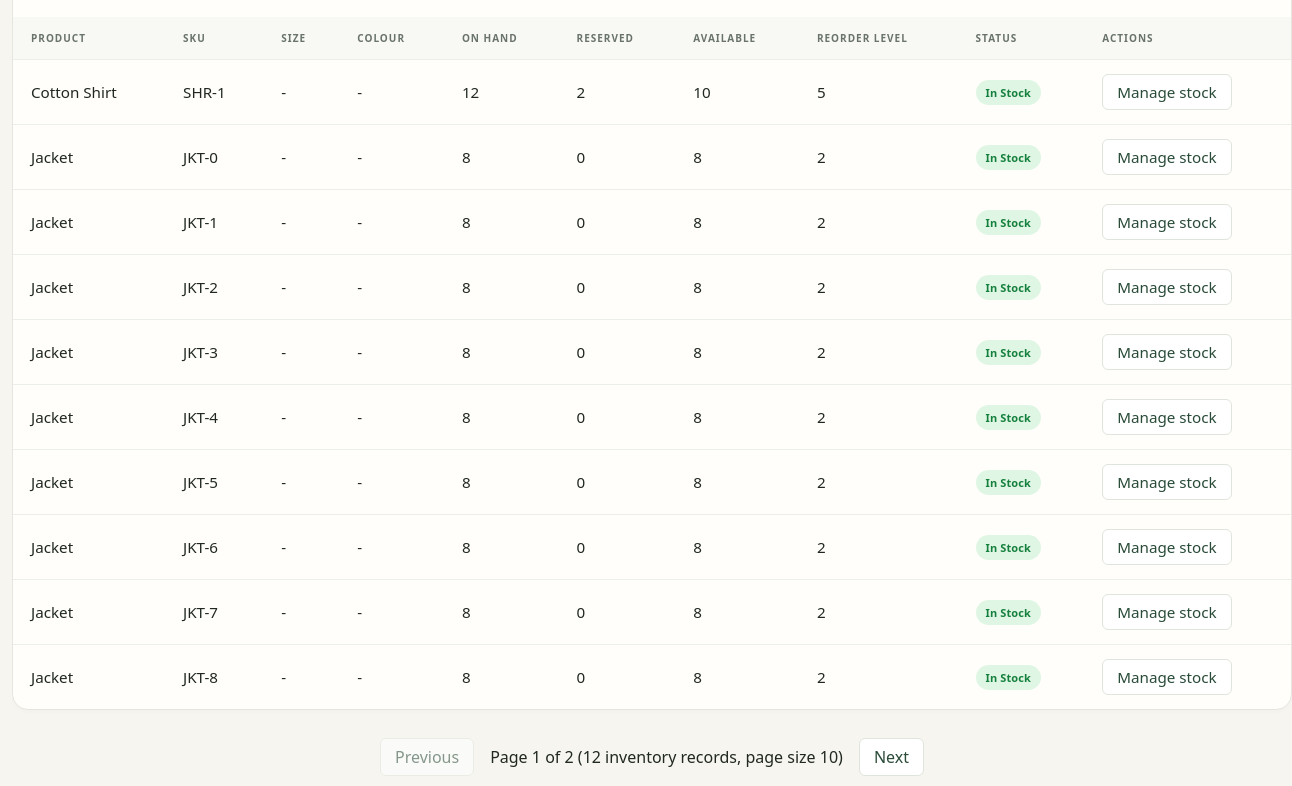
Test: filters and paginates the full inventory response without fake API query parameters
The image size is (1292, 786).
(page scrolled)
Check: the text "Page 1 of 2" is shown, box x1=490 y1=746 x2=843 y2=768
Click the button "Next" at (891, 757), box x1=859 y1=738 x2=924 y2=776
(page scrolled)
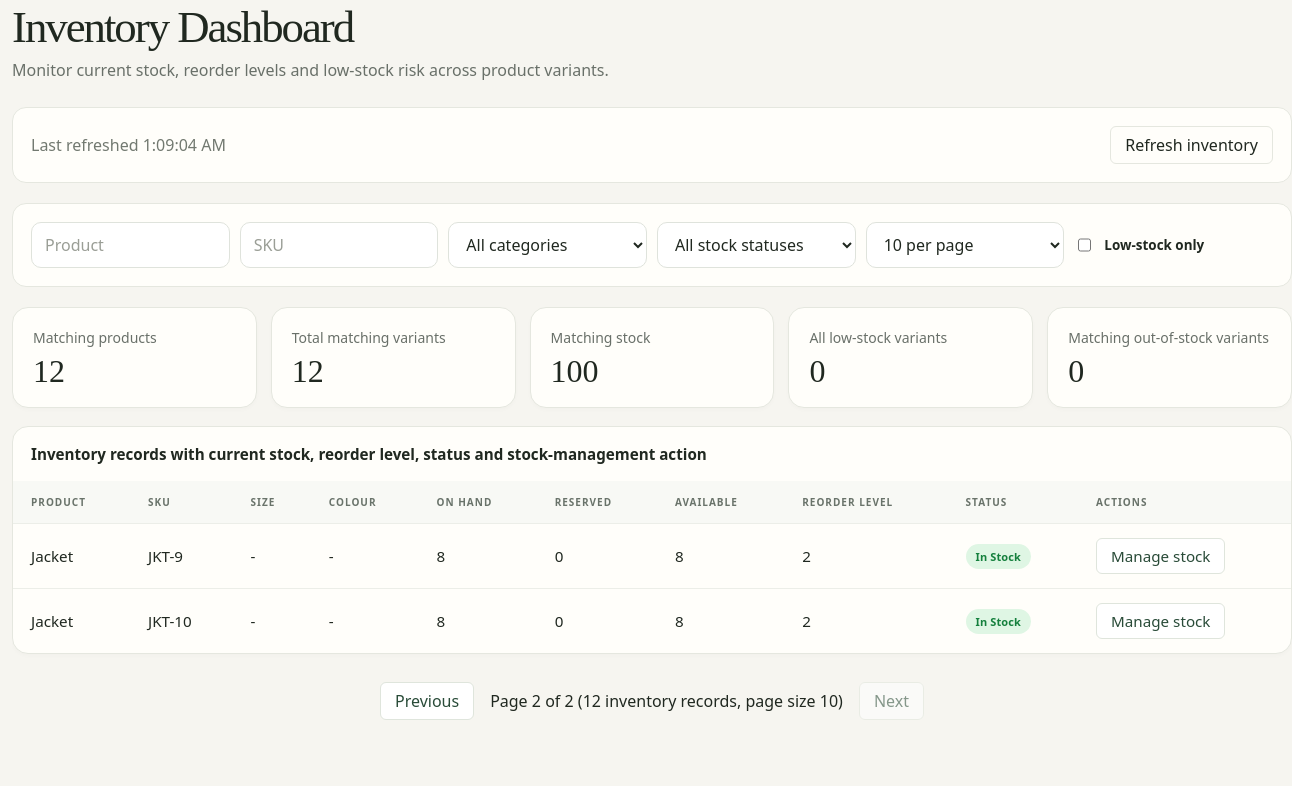
Check: the text "Page 2 of 2" is shown, box x1=490 y1=690 x2=843 y2=712
Type "shirt" into the field named "Filter inventory by product" at (130, 245), box x1=31 y1=222 x2=230 y2=268
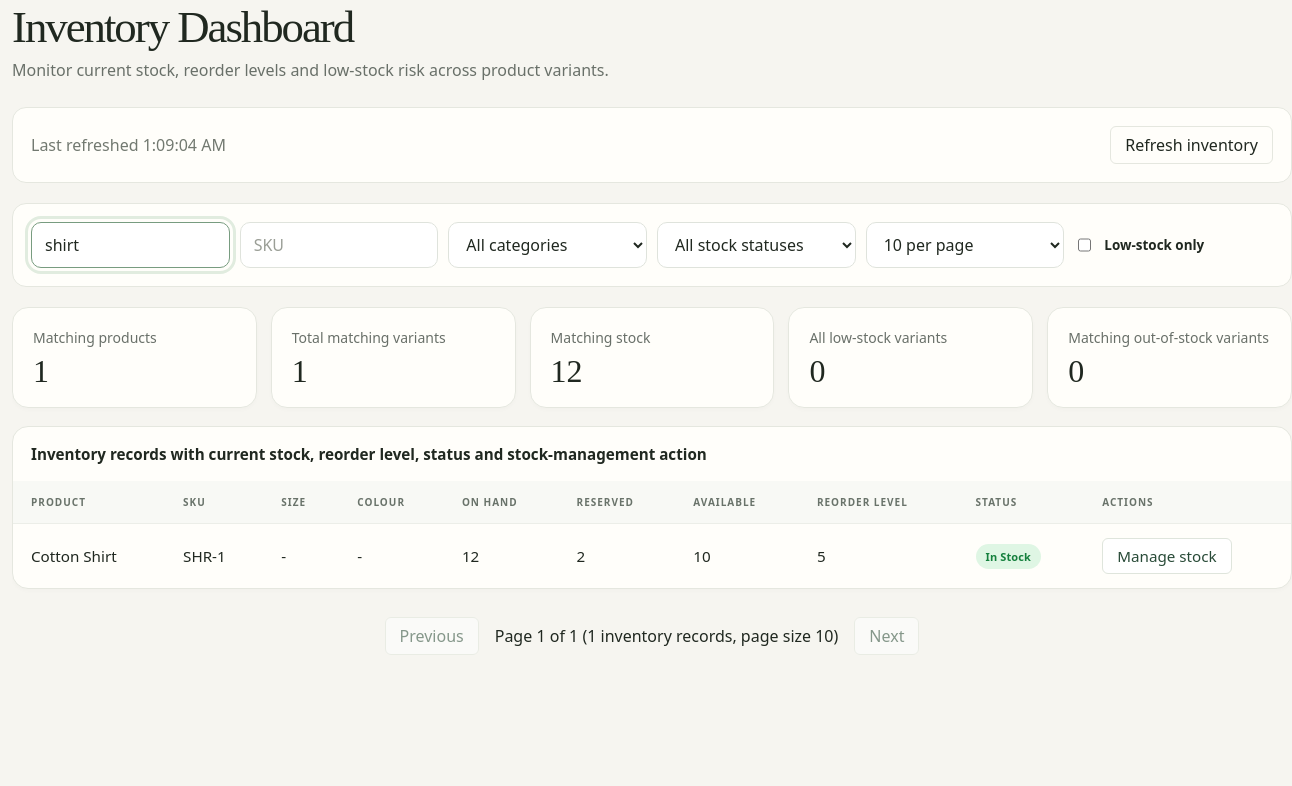
Check: the text "SHR-1" is shown, box x1=165 y1=524 x2=263 y2=588
Check: the text "JKT-10" is gone
